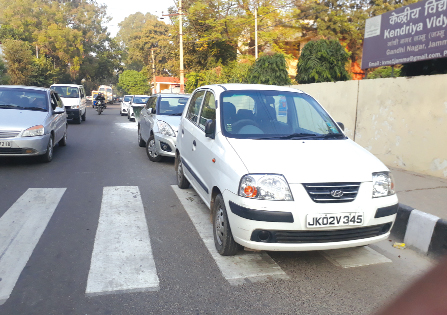numberplate: (307, 211, 365, 228)
